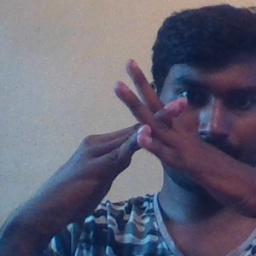W: (77, 54, 217, 185)
